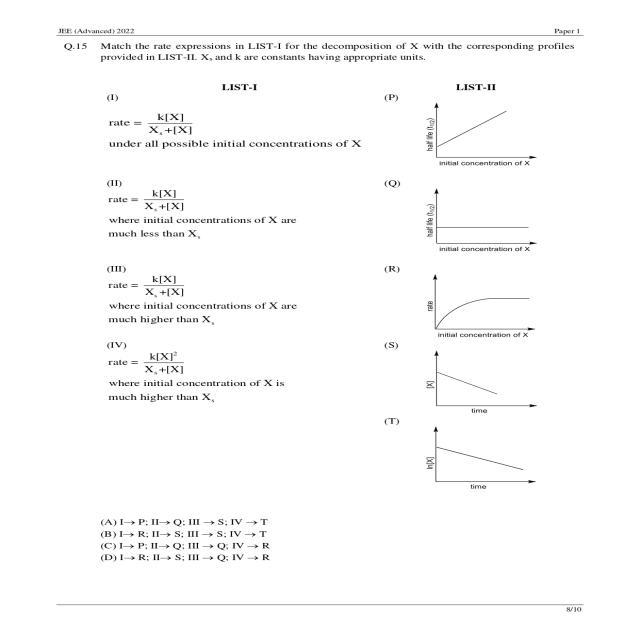Answer_Block: (52, 506, 614, 572)
Question_Answer_Block: (51, 39, 612, 571)
Question_Block: (51, 39, 612, 506)
Question_Paper_Area: (51, 39, 612, 590)
